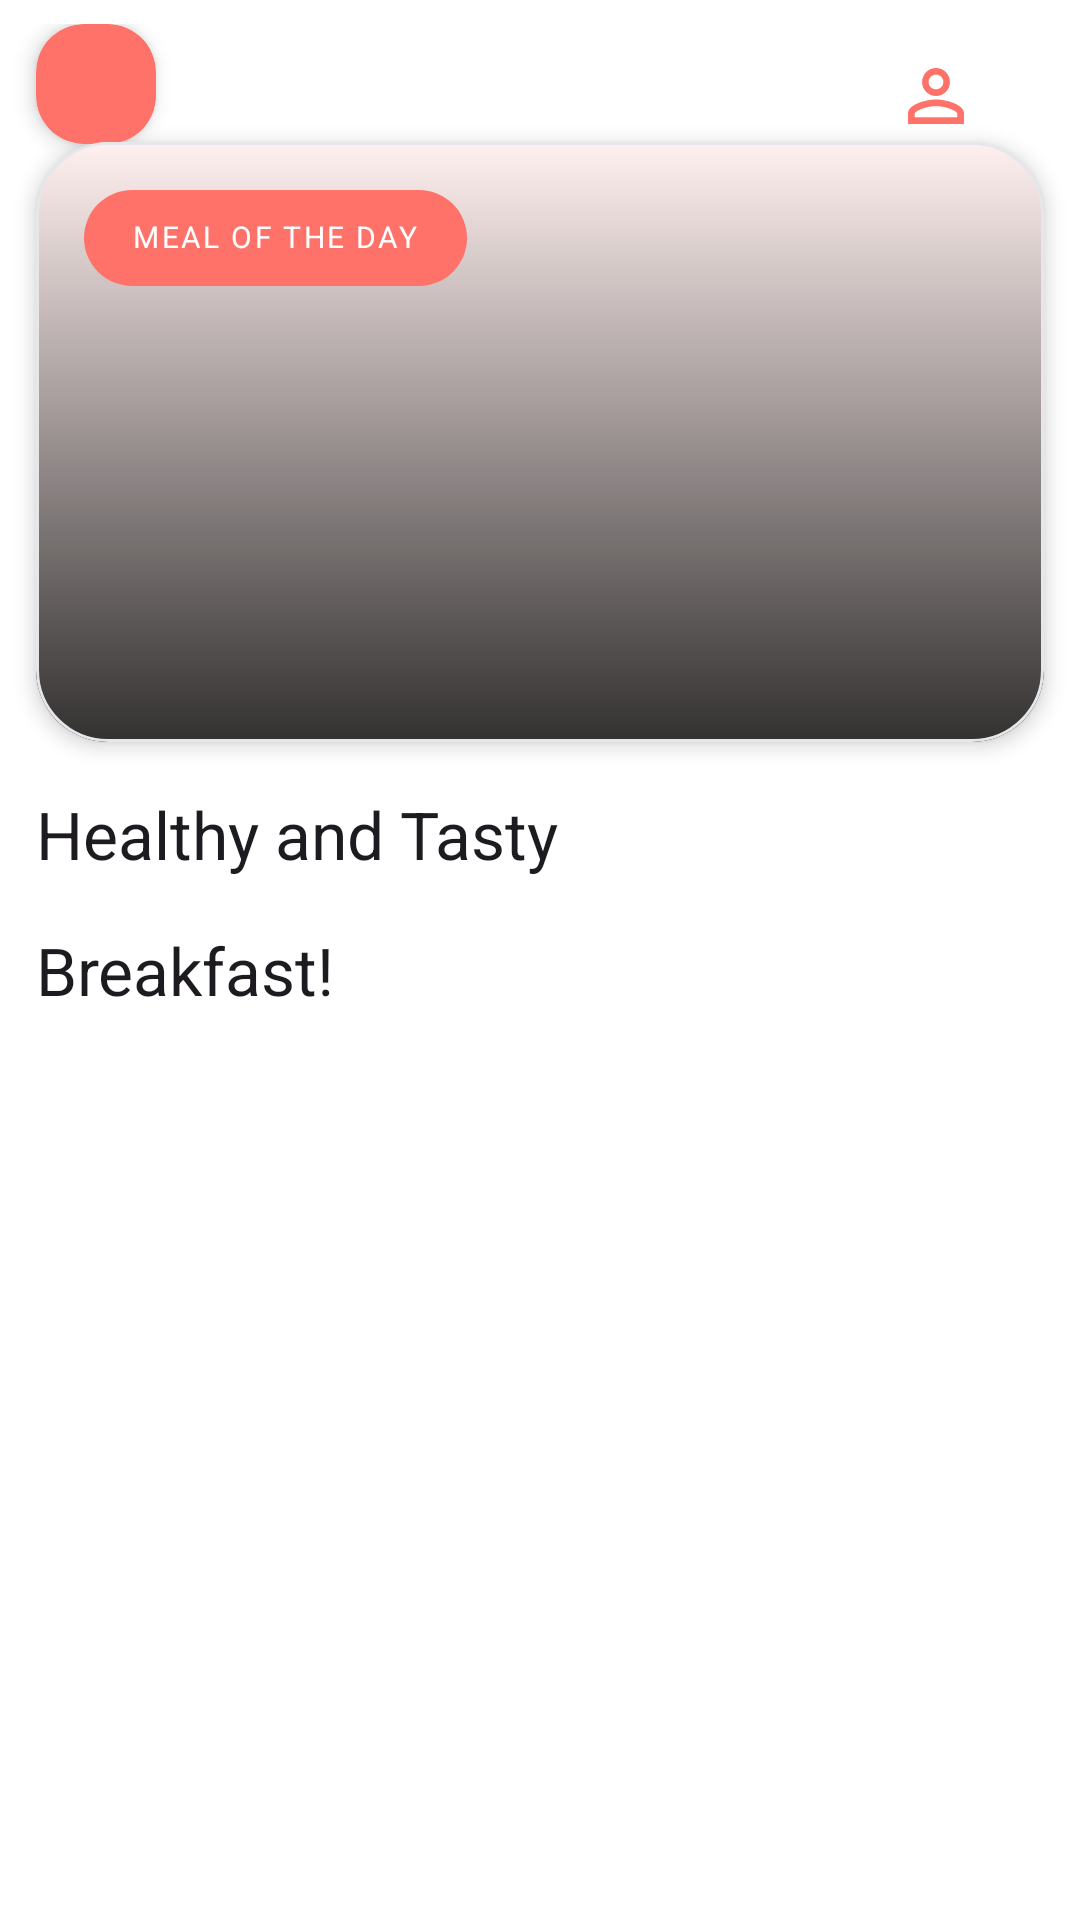

Named icons in this screenshot (1080*1920) and their bounding boxes, detection(x1, y1, x2, y2):
Profile: detection(908, 68, 964, 124)
